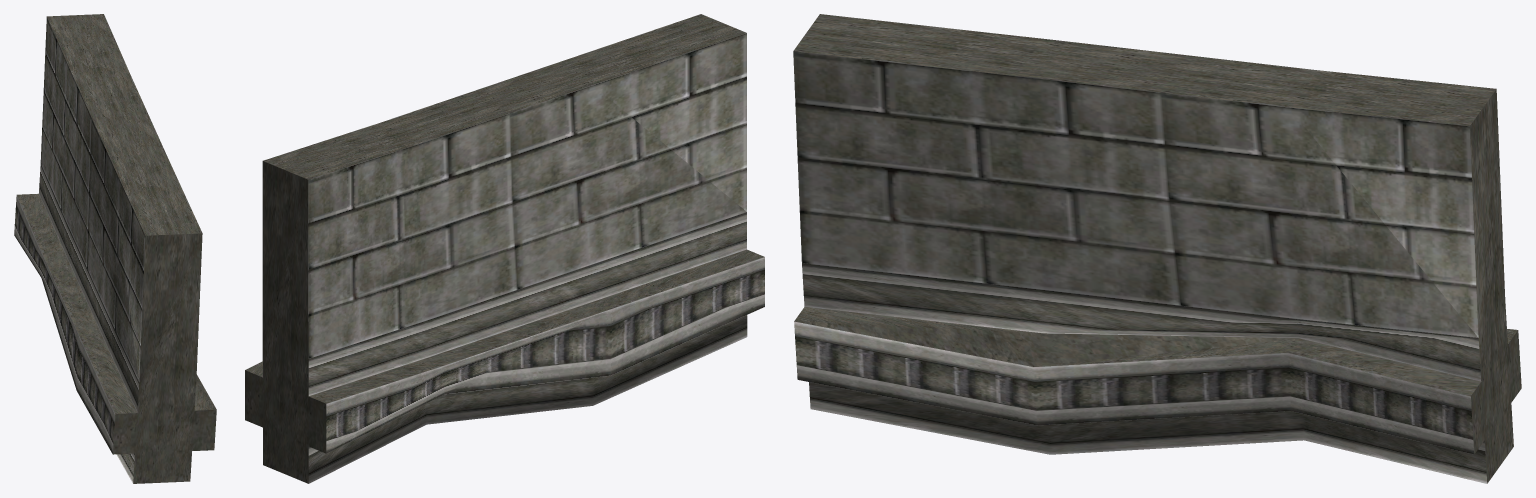
The model's file is DWARF_PALACE_MAINHALL_BALK_DEBREE01.fbx.
3 views of the same model, side by side, from view 1: azimuth 30°, elevation 25°; view 2: azimuth 150°, elevation 25°; view 3: azimuth 270°, elevation 25° (orthographic). The views are drawn at different scales.
Visible parts, largest first — view 1: DWARF_PALACE_MAINHALL_BALK_DEBREE01; view 2: DWARF_PALACE_MAINHALL_BALK_DEBREE01; view 3: DWARF_PALACE_MAINHALL_BALK_DEBREE01.
Boxes of the visible parts, x1=… form: DWARF_PALACE_MAINHALL_BALK_DEBREE01: x1=14, y1=14, x2=216, y2=483; DWARF_PALACE_MAINHALL_BALK_DEBREE01: x1=245, y1=14, x2=764, y2=483; DWARF_PALACE_MAINHALL_BALK_DEBREE01: x1=793, y1=14, x2=1521, y2=483.
Bounding box in the file's own units: 22606 × 26886 × 44467.
Materials: 4 (4 with a texture image).
